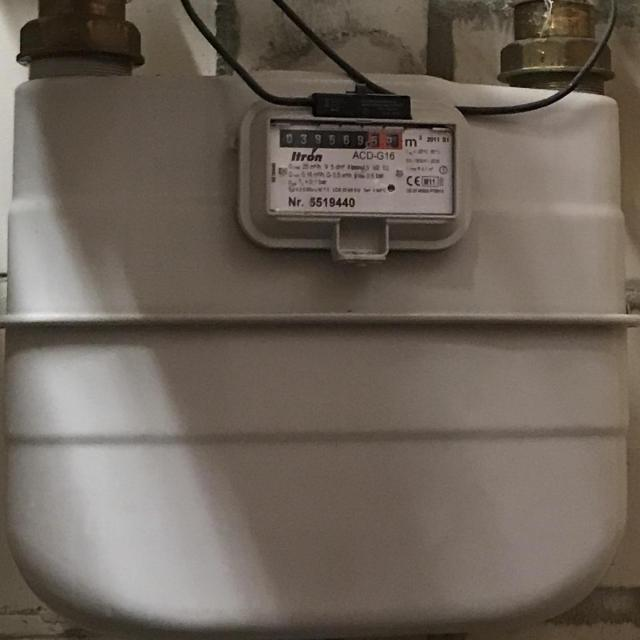gaz_meter: (270, 121, 456, 215)
indication: (279, 127, 406, 152)
